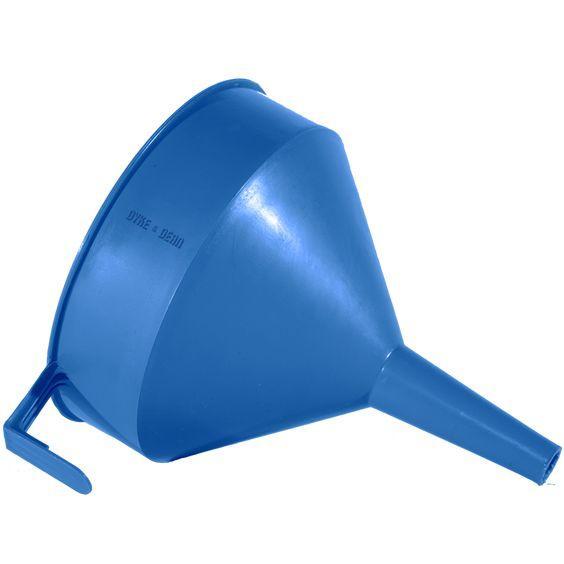PETE: (1, 76, 564, 496)
